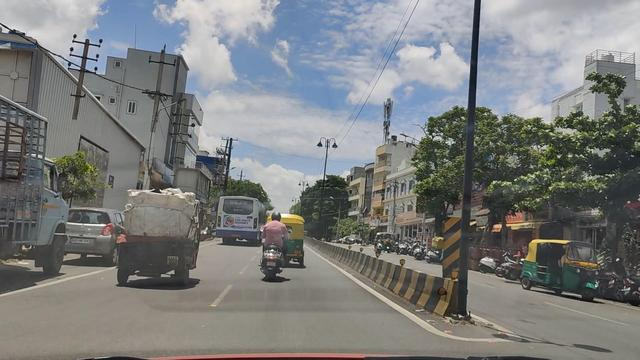HMV: (218, 198, 262, 243)
LMV: (122, 192, 201, 288), (269, 219, 304, 269), (264, 216, 286, 278)
